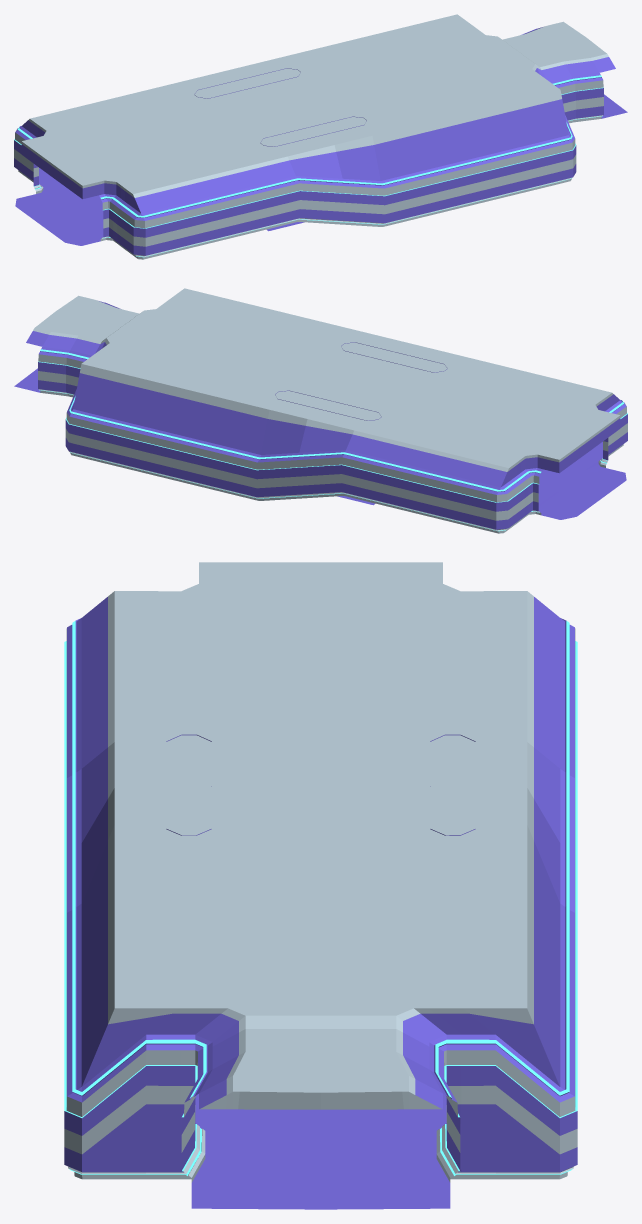
The model's file is MovementSection.fbx.
3 views of the same model, one above another, from view 1: azimuth 30°, elevation 25°; view 2: azimuth 150°, elevation 25°; view 3: azimuth 270°, elevation 25° (orthographic). The views are drawn at different scales.
Parts seen in each view (by area): view 1: Movement_Area; view 2: Movement_Area; view 3: Movement_Area.
Boxes of the visible parts, left/top/right/bottom form: Movement_Area: left=14, top=14, right=627, bottom=259; Movement_Area: left=14, top=288, right=627, bottom=533; Movement_Area: left=64, top=562, right=577, bottom=1209.
Size of the model in its own units: 8989 by 1385 by 3593.
